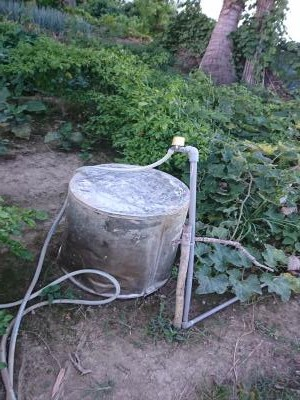bucket: (53, 160, 190, 303)
